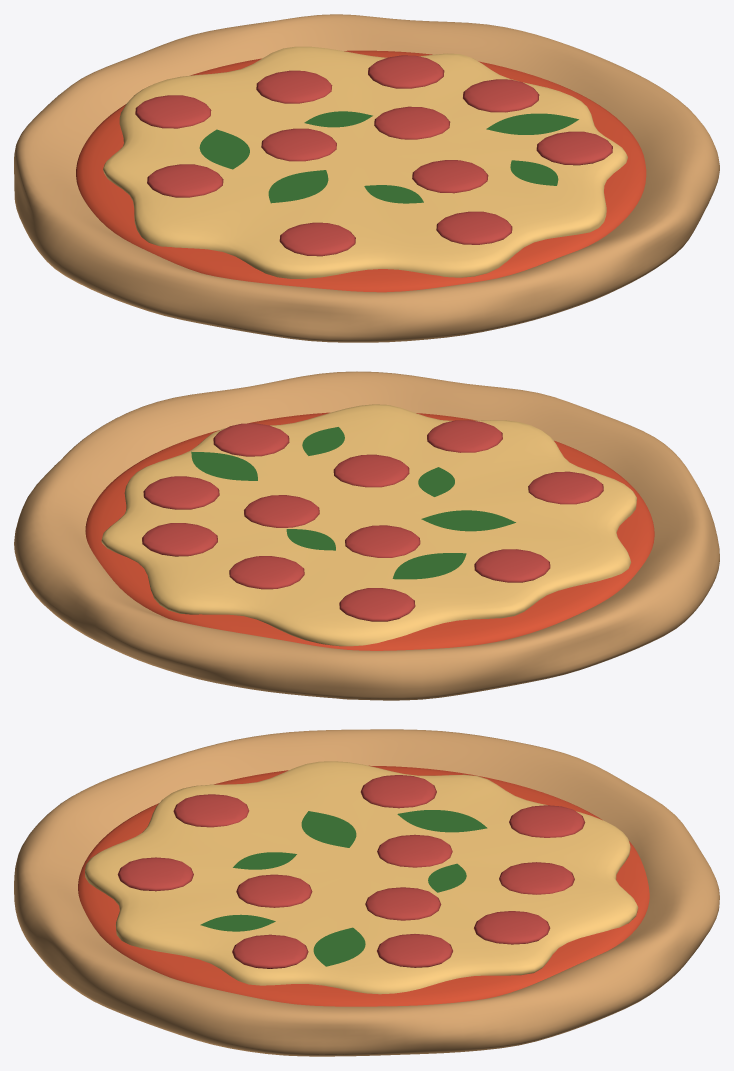
The model's file is PepPizza.glb.
3 views of the same model, one above another, from view 1: azimuth 30°, elevation 25°; view 2: azimuth 150°, elevation 25°; view 3: azimuth 270°, elevation 25° (orthographic).
Parts seen in each view (by area): view 1: Pizza; view 2: Pizza; view 3: Pizza.
Boxes of the visible parts, x1,y1,x2,y2 form: Pizza: [14, 14, 719, 342]; Pizza: [14, 371, 719, 700]; Pizza: [14, 729, 719, 1056].
Size of the model in its own units: 0.3367 by 0.0296 by 0.3339.
